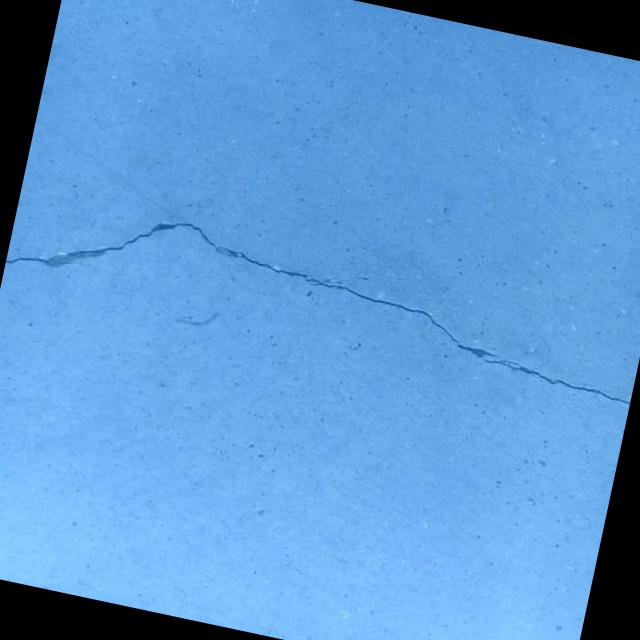crack: (3, 186, 640, 405)
